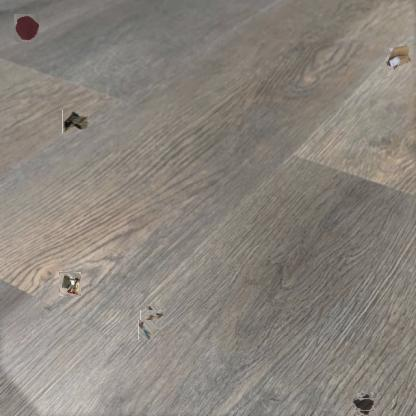dirty: (386, 44, 416, 74), (62, 110, 91, 134), (59, 272, 81, 296), (143, 308, 161, 327), (138, 320, 153, 340)
liquid: (13, 15, 40, 42), (355, 396, 373, 414)
